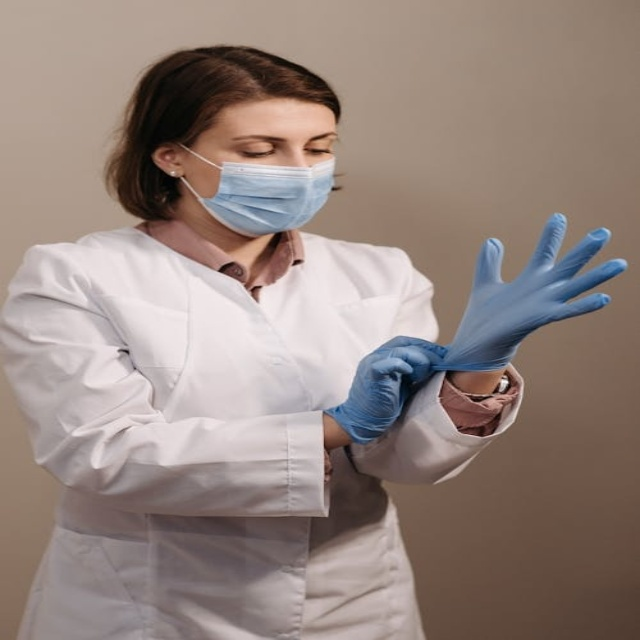Guantes: (434, 214, 625, 373), (325, 335, 449, 444)
Mascara: (173, 141, 334, 236)
Sin_gafas: (240, 148, 276, 158), (306, 147, 333, 155)
